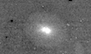Halpha: (25, 9, 53, 28)
